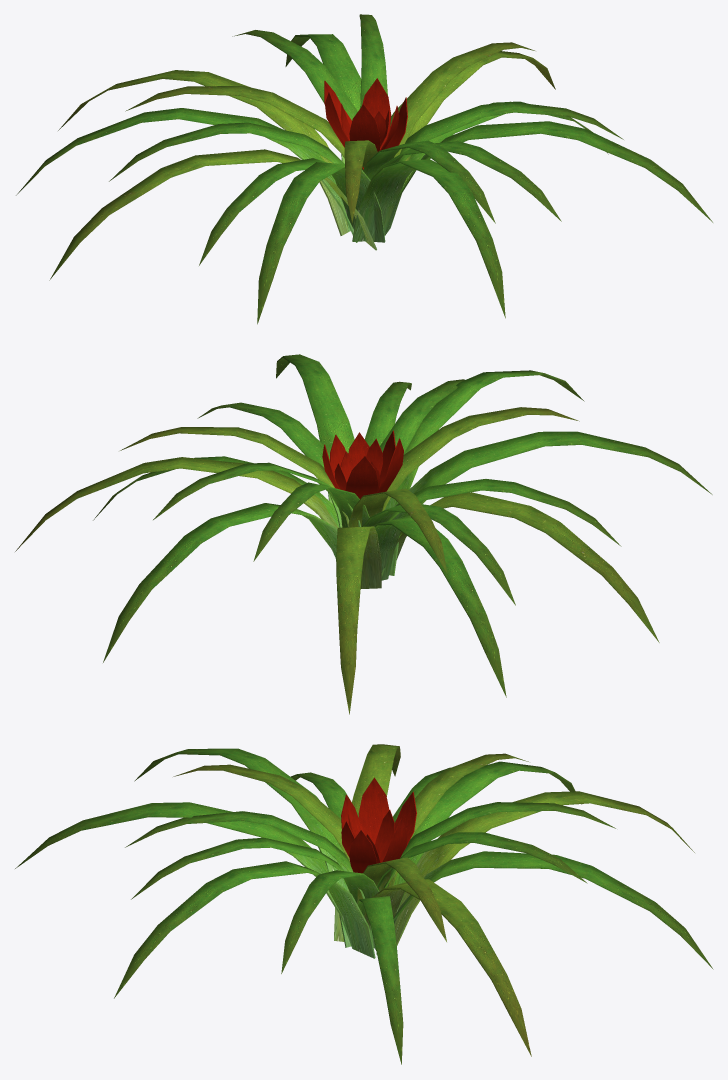
Rendered from Bromeliad2.fbx.
The picture shows the model from 3 angles, top to bottom: view 1: azimuth 30°, elevation 25°; view 2: azimuth 150°, elevation 25°; view 3: azimuth 270°, elevation 25°; orthographic projection.
Parts seen in each view (by area): view 1: Bromeliad2; view 2: Bromeliad2; view 3: Bromeliad2.
Part boxes in pixels (x1,y1,x2,y2): Bromeliad2: (16, 14, 712, 324); Bromeliad2: (15, 354, 712, 714); Bromeliad2: (15, 744, 713, 1064).
Bounding box in the file's own units: 66.76 × 16.94 × 70.4.
